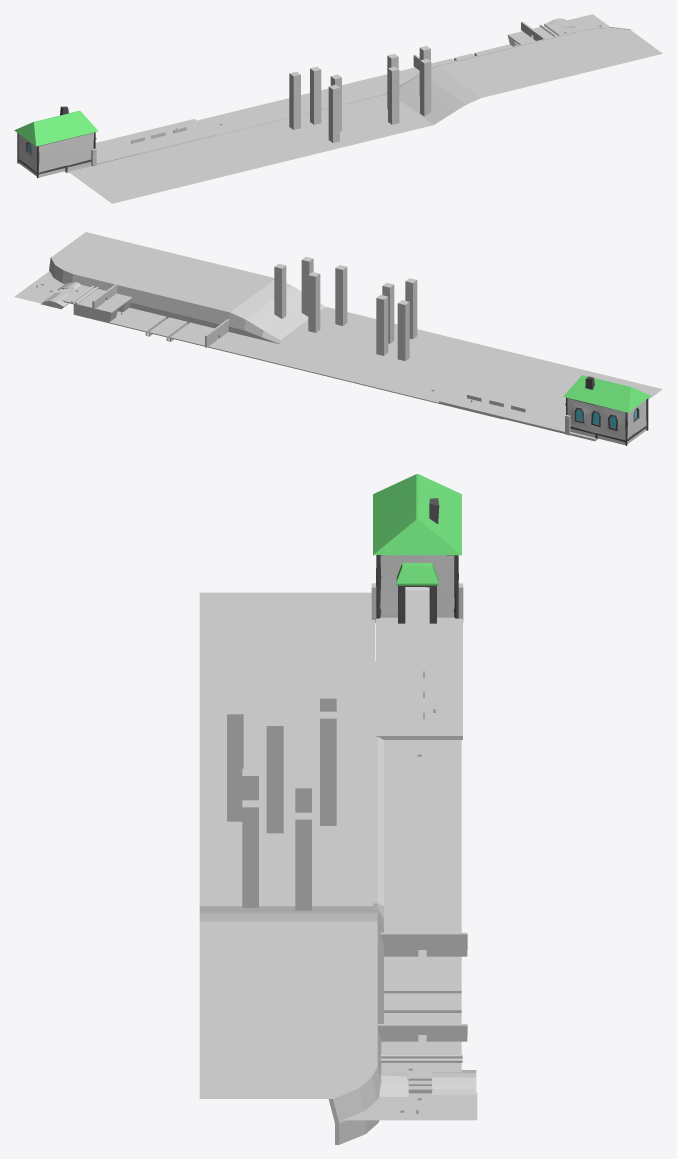
The model's file is ALighthouseStory_LevelBlockout_WIP3.fbx.
3 views of the same model, one above another, from view 1: azimuth 30°, elevation 25°; view 2: azimuth 150°, elevation 25°; view 3: azimuth 270°, elevation 25° (orthographic). The views are drawn at different scales.
Visible parts, largest first — view 1: Plane.001, Cube.033, Cube.008, Cube.027, Cube.003, Cube.020, Cube.025, Cube.026, Cube.018, Cube.024, Plane; view 2: Plane.001, Cube.008, Cube.003, Cube.033, Cube.027, Plane, Cube.026, Cube.017, Cube.020, Cube.018, Cube.023, Cube.025 (+3 smaller); view 3: Plane.001, Cube.008, Cube.027, Cube.033, Cube.003, Plane, Cube.015, Cube.019, Cube.020, Cube.025, Cube.024, Cube.023 (+2 smaller).
Part boxes in pixels (left/top/right/bottom): Plane.001: left=68, top=28, right=662, bottom=203; Cube.033: left=14, top=106, right=98, bottom=177; Cube.008: left=197, top=23, right=574, bottom=134; Cube.027: left=65, top=119, right=215, bottom=172; Cube.003: left=139, top=27, right=630, bottom=154; Cube.020: left=310, top=66, right=321, bottom=124; Cube.025: left=328, top=84, right=339, bottom=142; Cube.026: left=289, top=71, right=300, bottom=129; Cube.018: left=388, top=66, right=399, bottom=124; Cube.024: left=420, top=58, right=431, bottom=116; Plane: left=567, top=14, right=609, bottom=29; Plane.001: left=52, top=232, right=662, bottom=409; Cube.008: left=61, top=284, right=503, bottom=419; Cube.003: left=49, top=256, right=542, bottom=404; Cube.033: left=563, top=375, right=651, bottom=445; Cube.027: left=439, top=384, right=598, bottom=441; Plane: left=14, top=271, right=64, bottom=303; Cube.026: left=397, top=300, right=409, bottom=361; Cube.017: left=308, top=272, right=320, bottom=332; Cube.020: left=376, top=295, right=388, bottom=355; Cube.018: left=335, top=265, right=347, bottom=325; Cube.023: left=274, top=263, right=286, bottom=318; Cube.025: left=405, top=278, right=417, bottom=339; Plane.001: left=199, top=592, right=375, bottom=1098; Cube.008: left=381, top=740, right=461, bottom=1080; Cube.027: left=376, top=590, right=462, bottom=739; Cube.033: left=373, top=474, right=461, bottom=623; Cube.003: left=328, top=661, right=383, bottom=1144; Plane: left=342, top=1092, right=477, bottom=1120; Cube.015: left=380, top=932, right=467, bottom=956; Cube.019: left=266, top=719, right=283, bottom=833; Cube.020: left=320, top=711, right=336, bottom=825; Cube.025: left=227, top=707, right=243, bottom=821; Cube.024: left=242, top=800, right=258, bottom=907; Cube.023: left=295, top=812, right=311, bottom=910.
Bounding box in the file's own units: 7761 × 773 × 1599.
